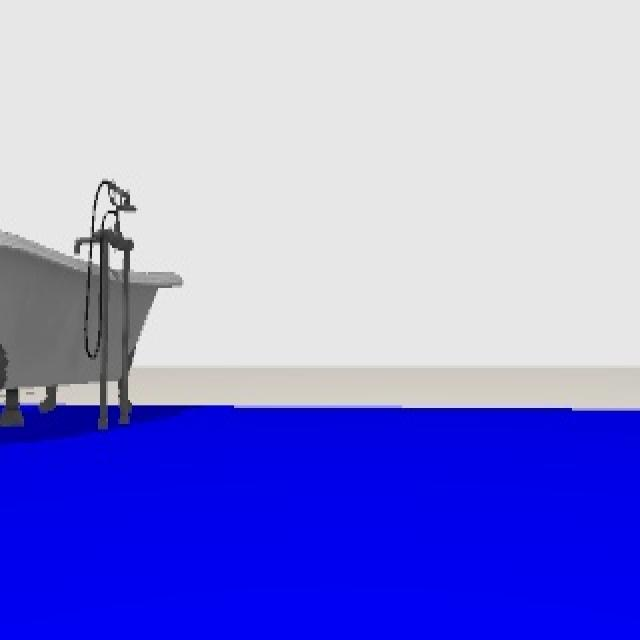bathtub: (2, 182, 185, 433)
